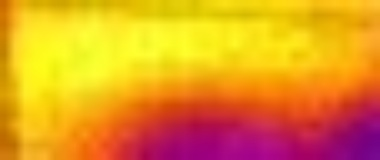Shadow: (123, 100, 380, 160)
